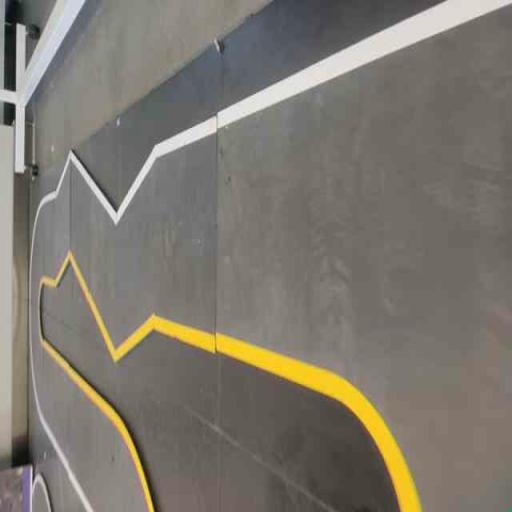straight: (153, 38, 330, 410)
